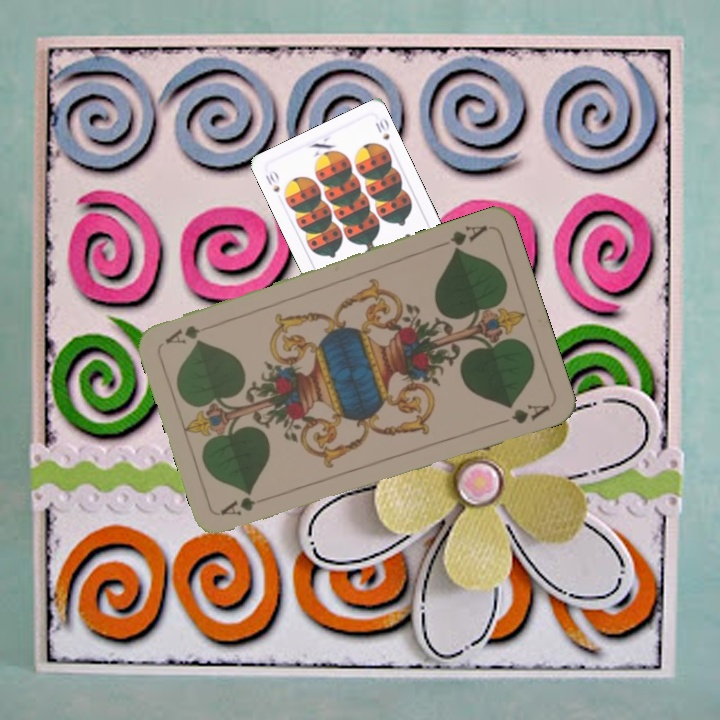GA: (217, 491, 275, 519), (446, 221, 490, 256)
S10: (261, 167, 282, 195)
